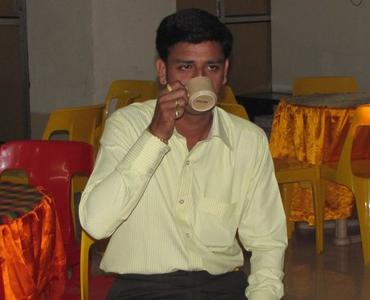person: (76, 7, 288, 300)
